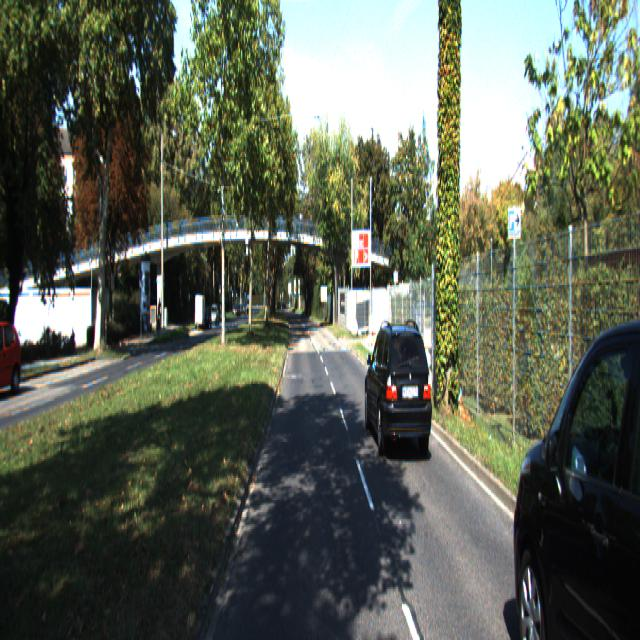Car: (502, 275, 640, 638), (364, 316, 433, 462), (0, 321, 22, 392)
